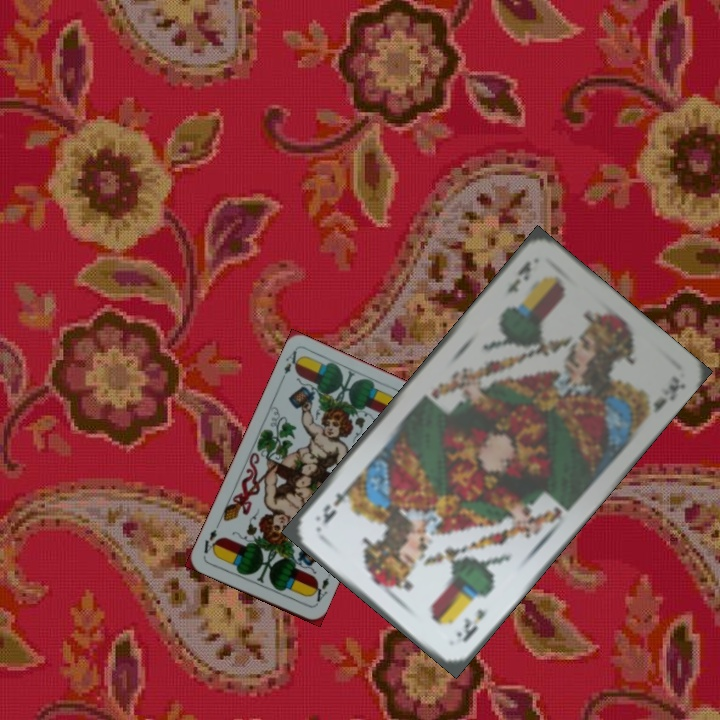EA: (276, 346, 304, 385), (307, 573, 332, 608)
EK: (451, 604, 488, 645), (502, 256, 534, 297)
